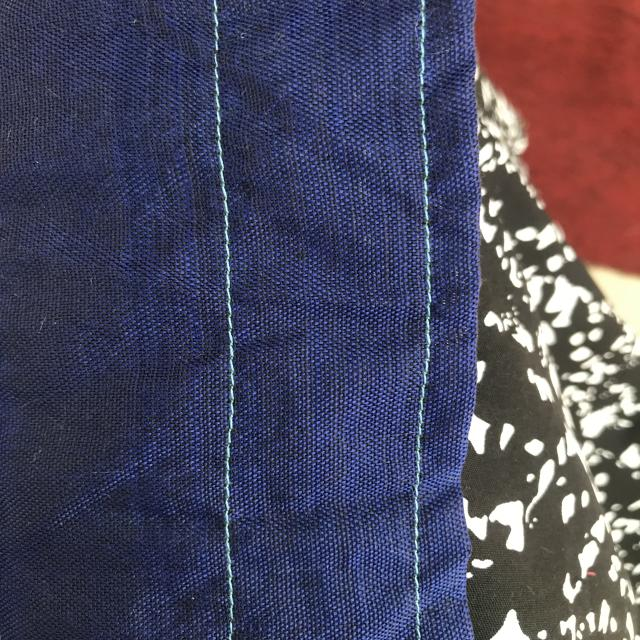good: (198, 38, 250, 320), (210, 344, 253, 606), (406, 49, 449, 310), (407, 435, 439, 608)
